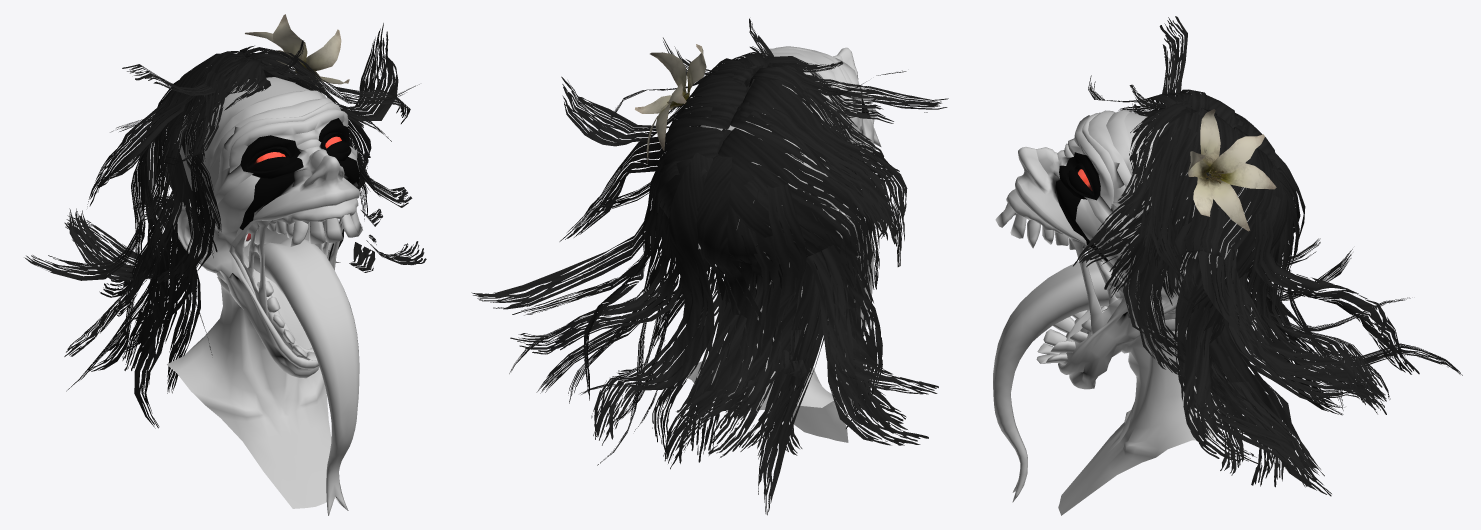
The model's file is rahang_head2.FBX.
3 renders of one model, left to right at view 1: azimuth 30°, elevation 25°; view 2: azimuth 150°, elevation 25°; view 3: azimuth 270°, elevation 25°, orthographic. The views are drawn at different scales.
Visible parts, largest first — view 1: rahang_head2, rahang_tongue; view 2: rahang_head2; view 3: rahang_head2, rahang_tongue.
Boxes of the visible parts, left/top/right/bottom form: rahang_head2: left=24, top=14, right=426, bottom=508; rahang_tongue: left=253, top=237, right=359, bottom=515; rahang_head2: left=471, top=18, right=948, bottom=515; rahang_head2: left=995, top=16, right=1462, bottom=515; rahang_tongue: left=993, top=259, right=1120, bottom=502.
Bounding box in the file's own units: 43.31 × 45.23 × 45.34.
